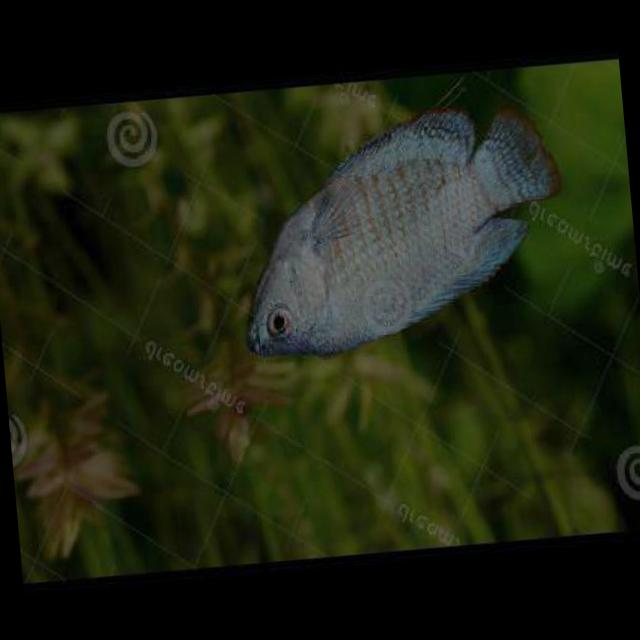Gourami: (228, 98, 574, 367)
